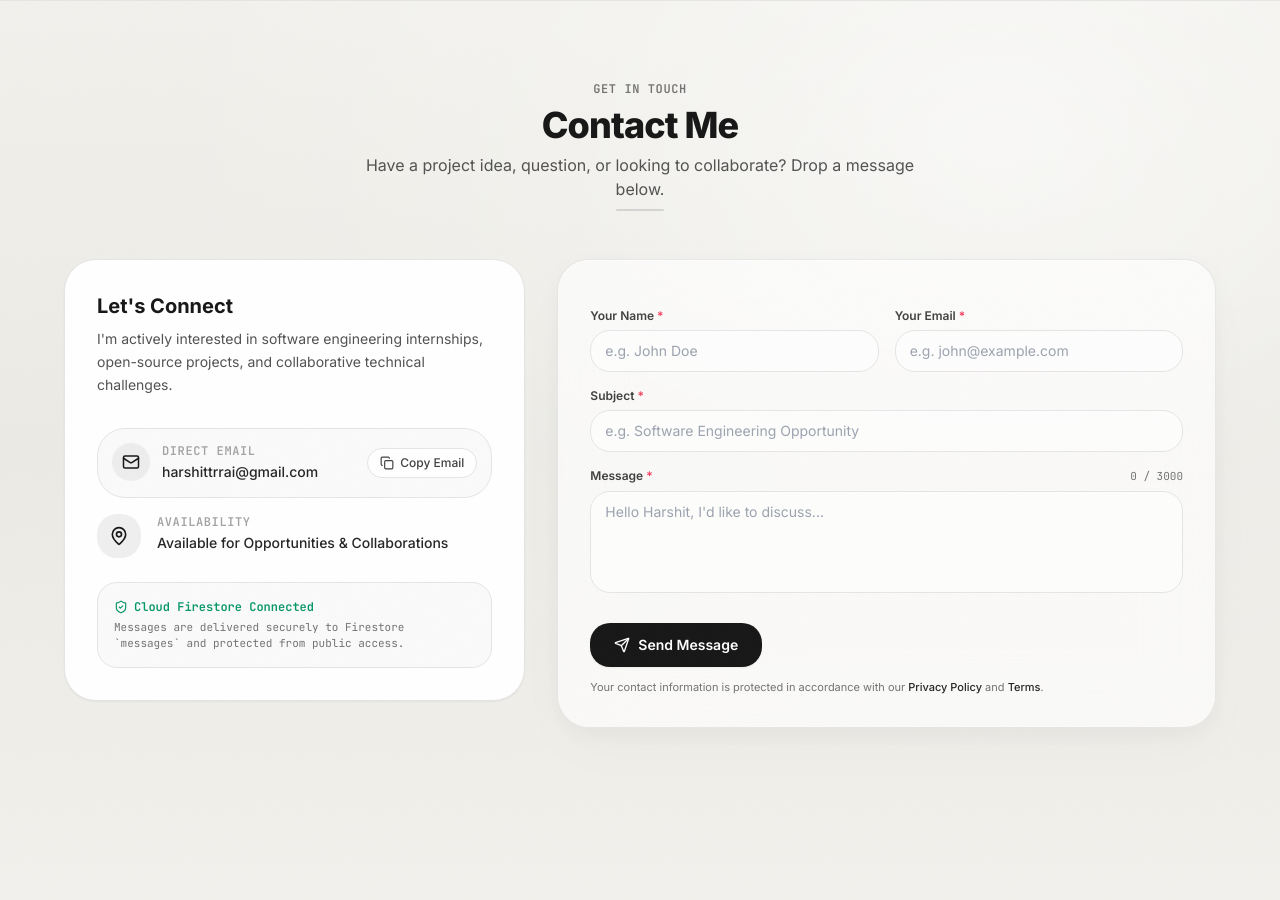
Scenario: Contact Component & Copy Email Action › validates contact form required fields
The width and height of the screenshot is (1280, 900).
Click the button "Send Message".
click(676, 644)  # box left=590, top=622, right=762, bottom=666
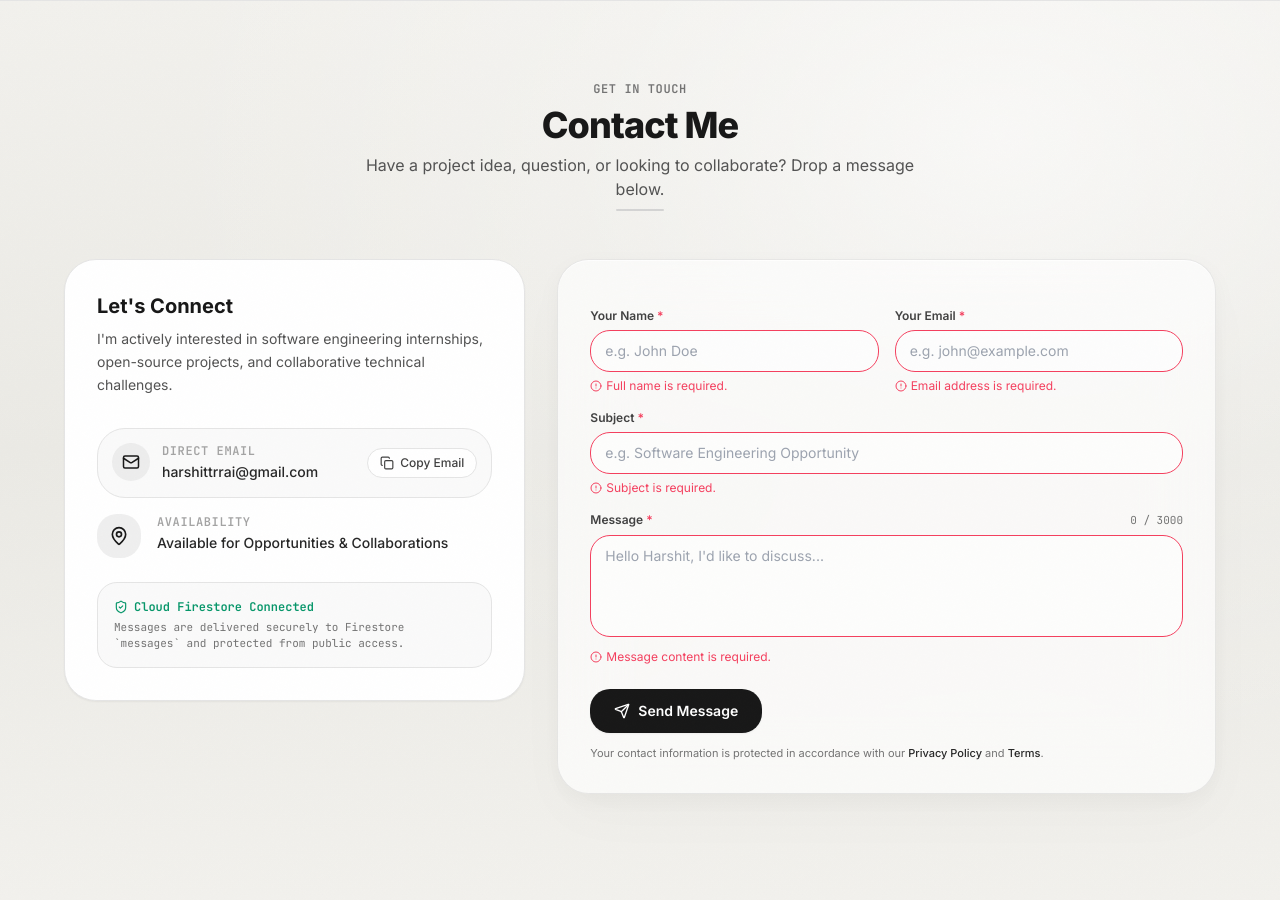
Check: the text "Full name is required." is shown, box left=606, top=378, right=727, bottom=394
Check: the text "Email address is required." is shown, box left=911, top=378, right=1056, bottom=394
Check: the text "Subject is required." is shown, box left=606, top=480, right=716, bottom=496
